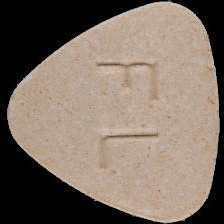55154-4621: (0, 0, 224, 224)
